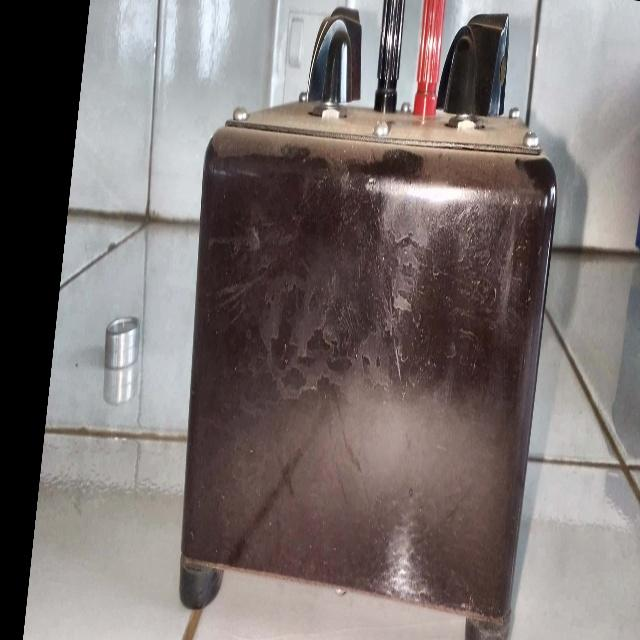Decade Capacitance Box: (156, 0, 592, 640)
